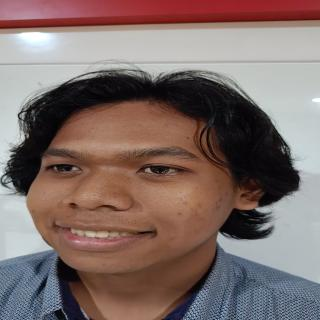Senang: (24, 89, 249, 278)
